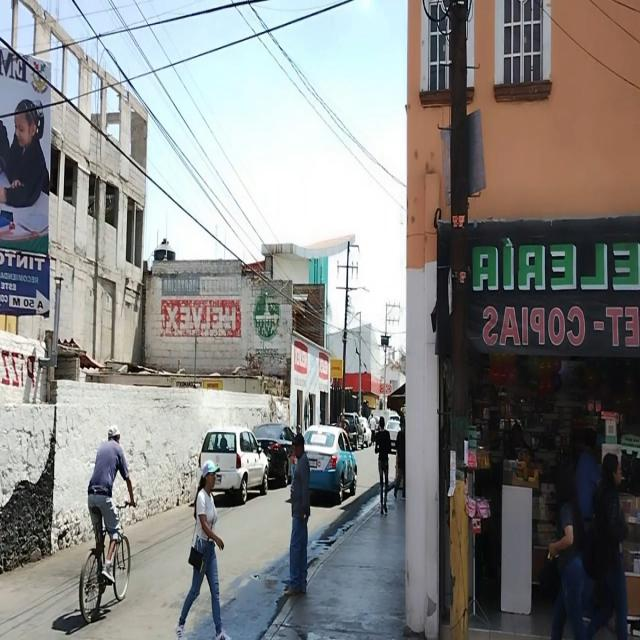adult: (176, 458, 227, 640), (86, 422, 137, 602), (587, 453, 628, 640), (547, 460, 586, 640), (281, 434, 309, 599)
